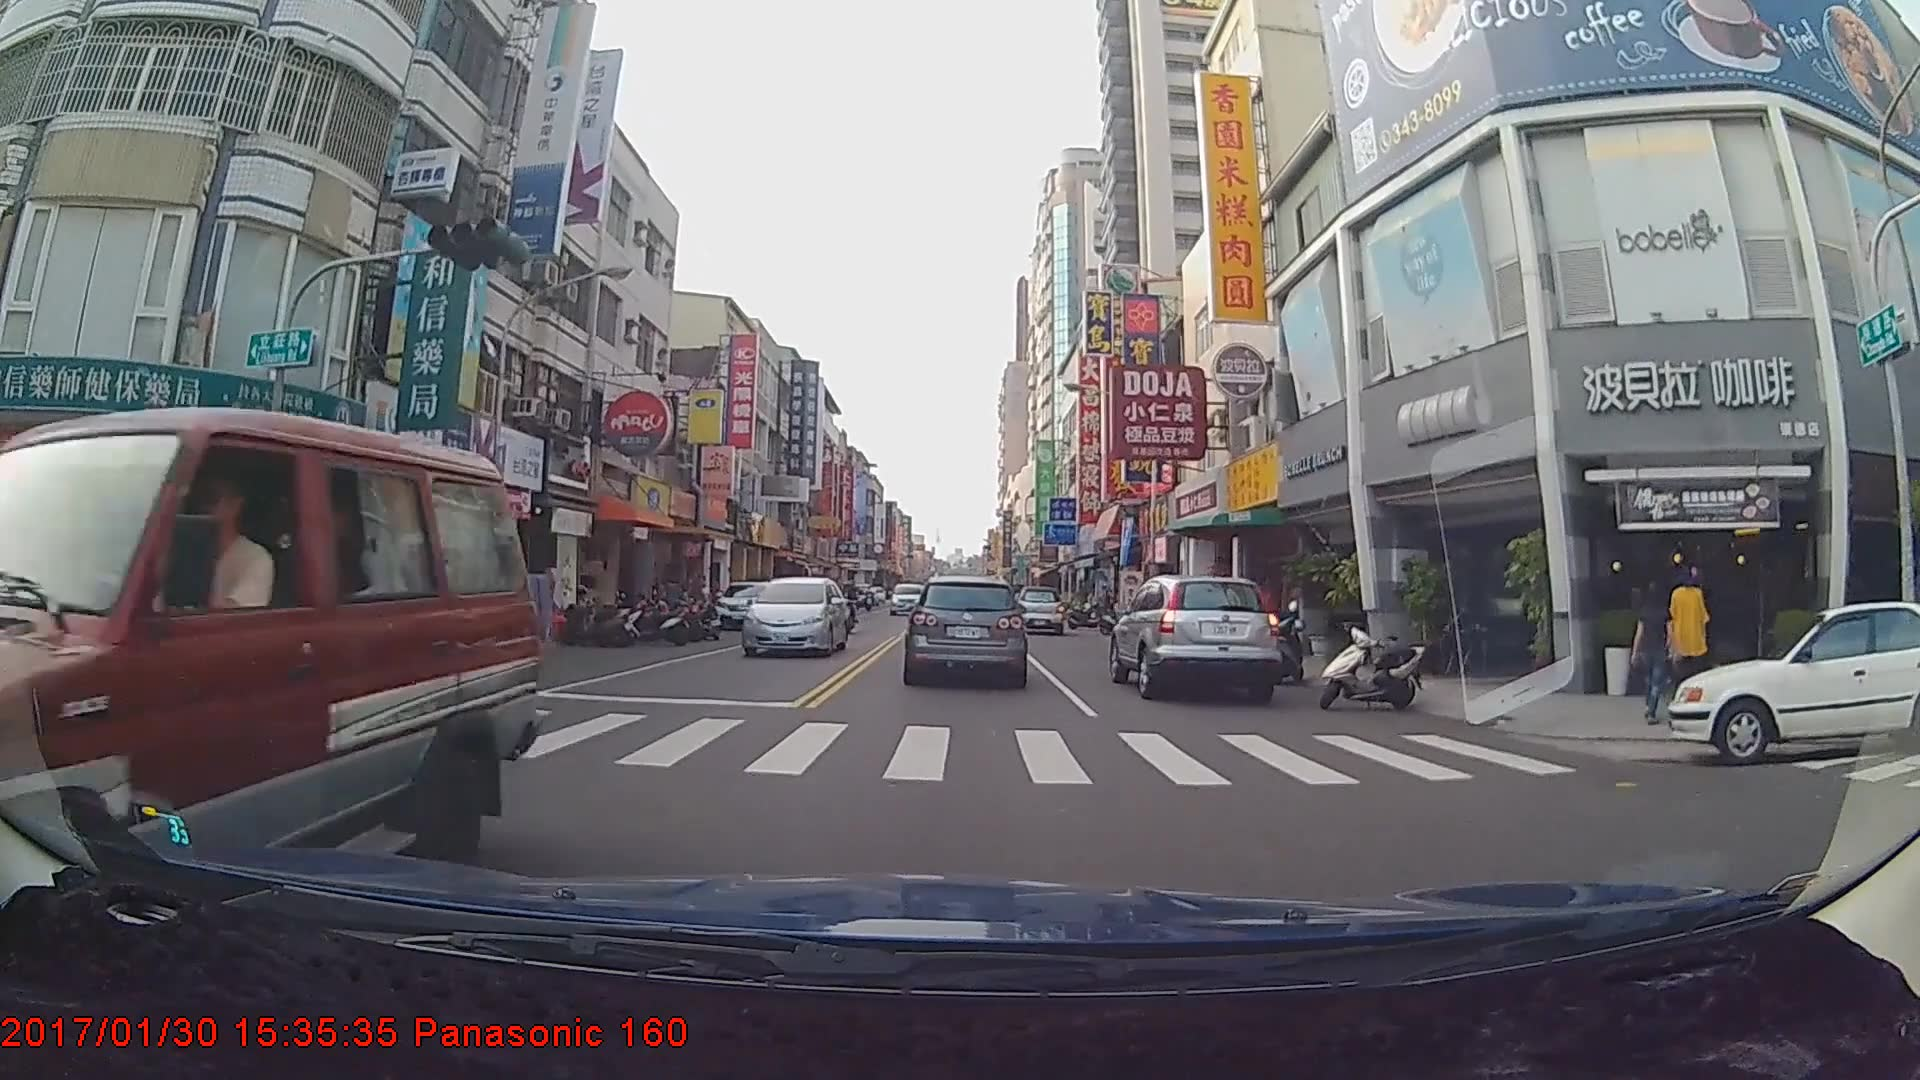pedestrian: (1629, 580, 1681, 728), (1666, 568, 1714, 698)
vehicle: (0, 401, 531, 984), (1669, 596, 1920, 765), (1108, 570, 1281, 702), (903, 574, 1027, 684), (741, 575, 852, 659), (713, 579, 774, 629), (1012, 585, 1064, 634), (888, 582, 926, 616)
